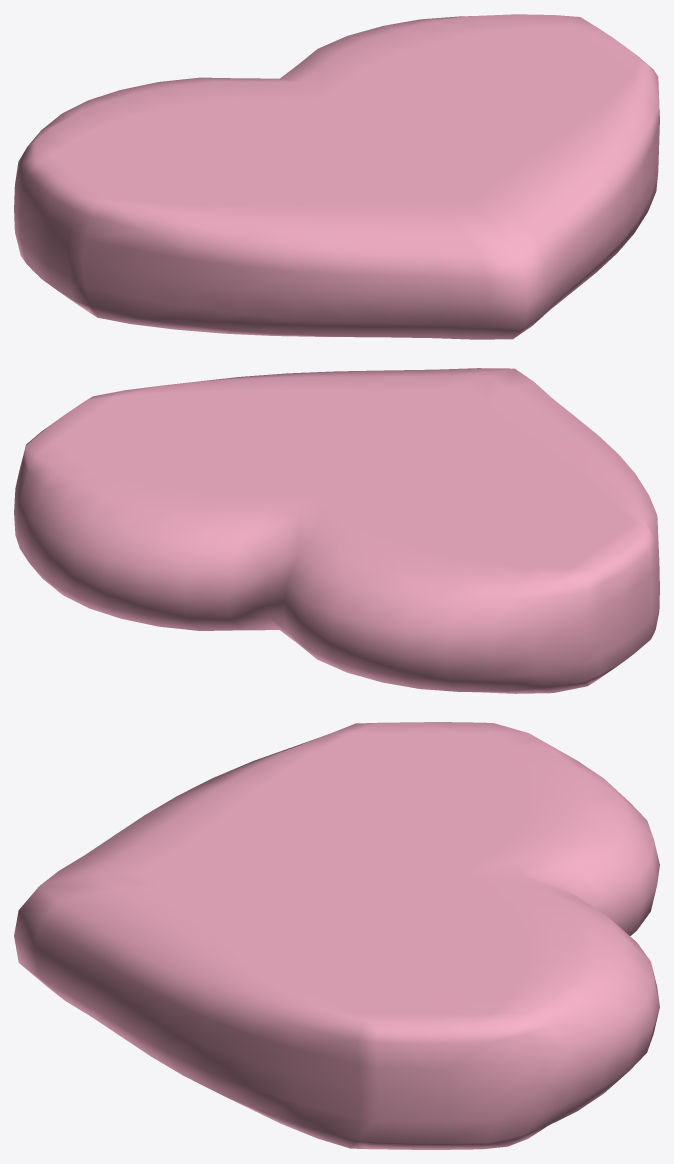
Rendered from Heart Final.fbx.
3 views of the same model, one above another, from view 1: azimuth 30°, elevation 25°; view 2: azimuth 150°, elevation 25°; view 3: azimuth 270°, elevation 25° (orthographic). The views are drawn at different scales.
Visible parts, largest first — view 1: Heart; view 2: Heart; view 3: Heart.
Boxes of the visible parts, x1,y1,x2,y2 form: Heart: [14, 14, 659, 339]; Heart: [14, 368, 659, 693]; Heart: [14, 722, 659, 1149].
Size of the model in its own units: 1.89 by 0.3442 by 1.61.
